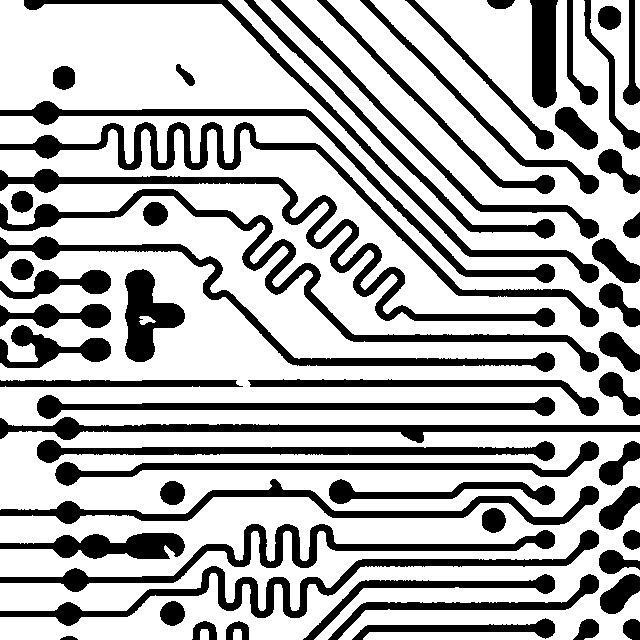copper: (166, 54, 204, 95)
mousebite: (154, 535, 185, 568)
open: (226, 367, 260, 397)
pin-hole: (129, 306, 165, 334)
short: (90, 532, 139, 563), (19, 324, 53, 356)
spur: (391, 418, 433, 452), (259, 469, 296, 506)
